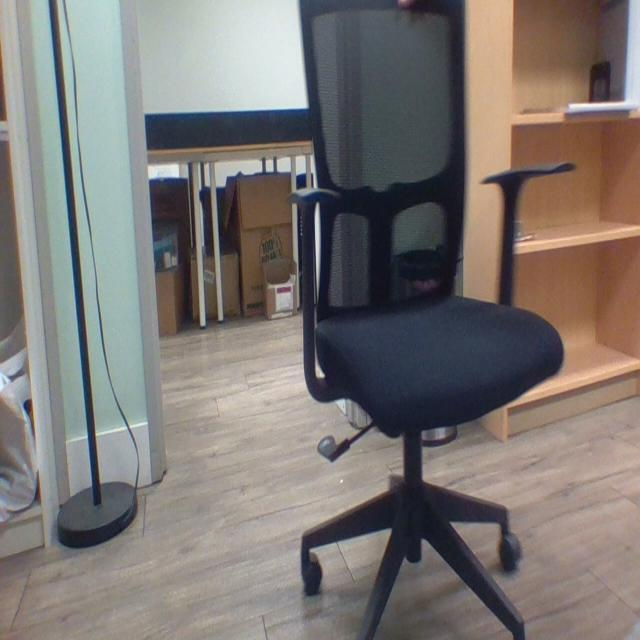chair: (286, 1, 582, 640)
